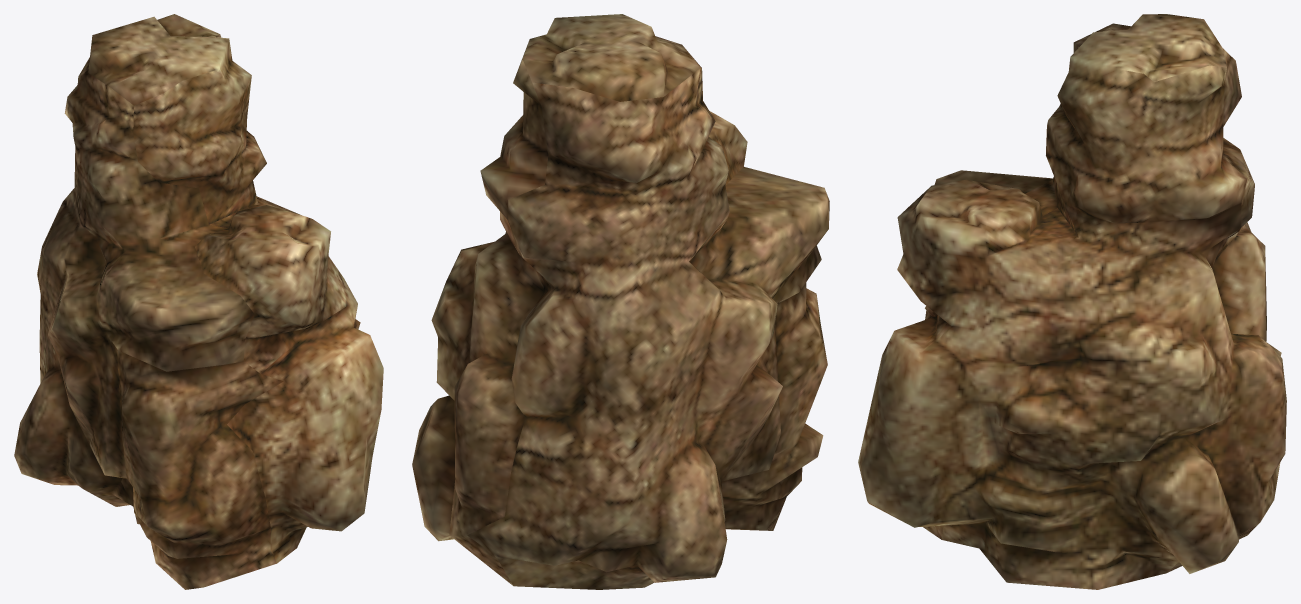
Rendered from S_Rock_Yellow034.FBX.
3 views of the same model, side by side, from view 1: azimuth 30°, elevation 25°; view 2: azimuth 150°, elevation 25°; view 3: azimuth 270°, elevation 25° (orthographic). The views are drawn at different scales.
Parts seen in each view (by area): view 1: S_Rock_Yellow034; view 2: S_Rock_Yellow034; view 3: S_Rock_Yellow034.
Boxes of the visible parts, x1,y1,x2,y2 form: S_Rock_Yellow034: (14, 14, 383, 589); S_Rock_Yellow034: (412, 14, 829, 589); S_Rock_Yellow034: (858, 14, 1286, 589).
Bounding box in the file's own units: 76.47 × 97.49 × 128.
Materials: 1 (1 with a texture image).
